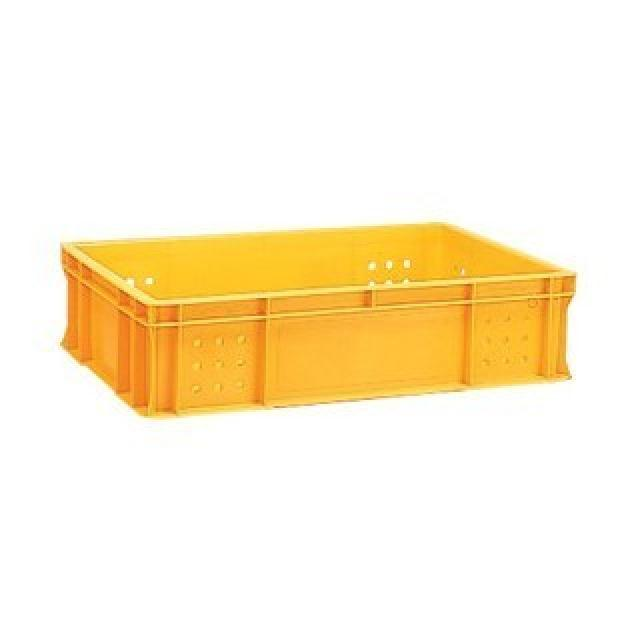basket: (57, 218, 583, 419)
